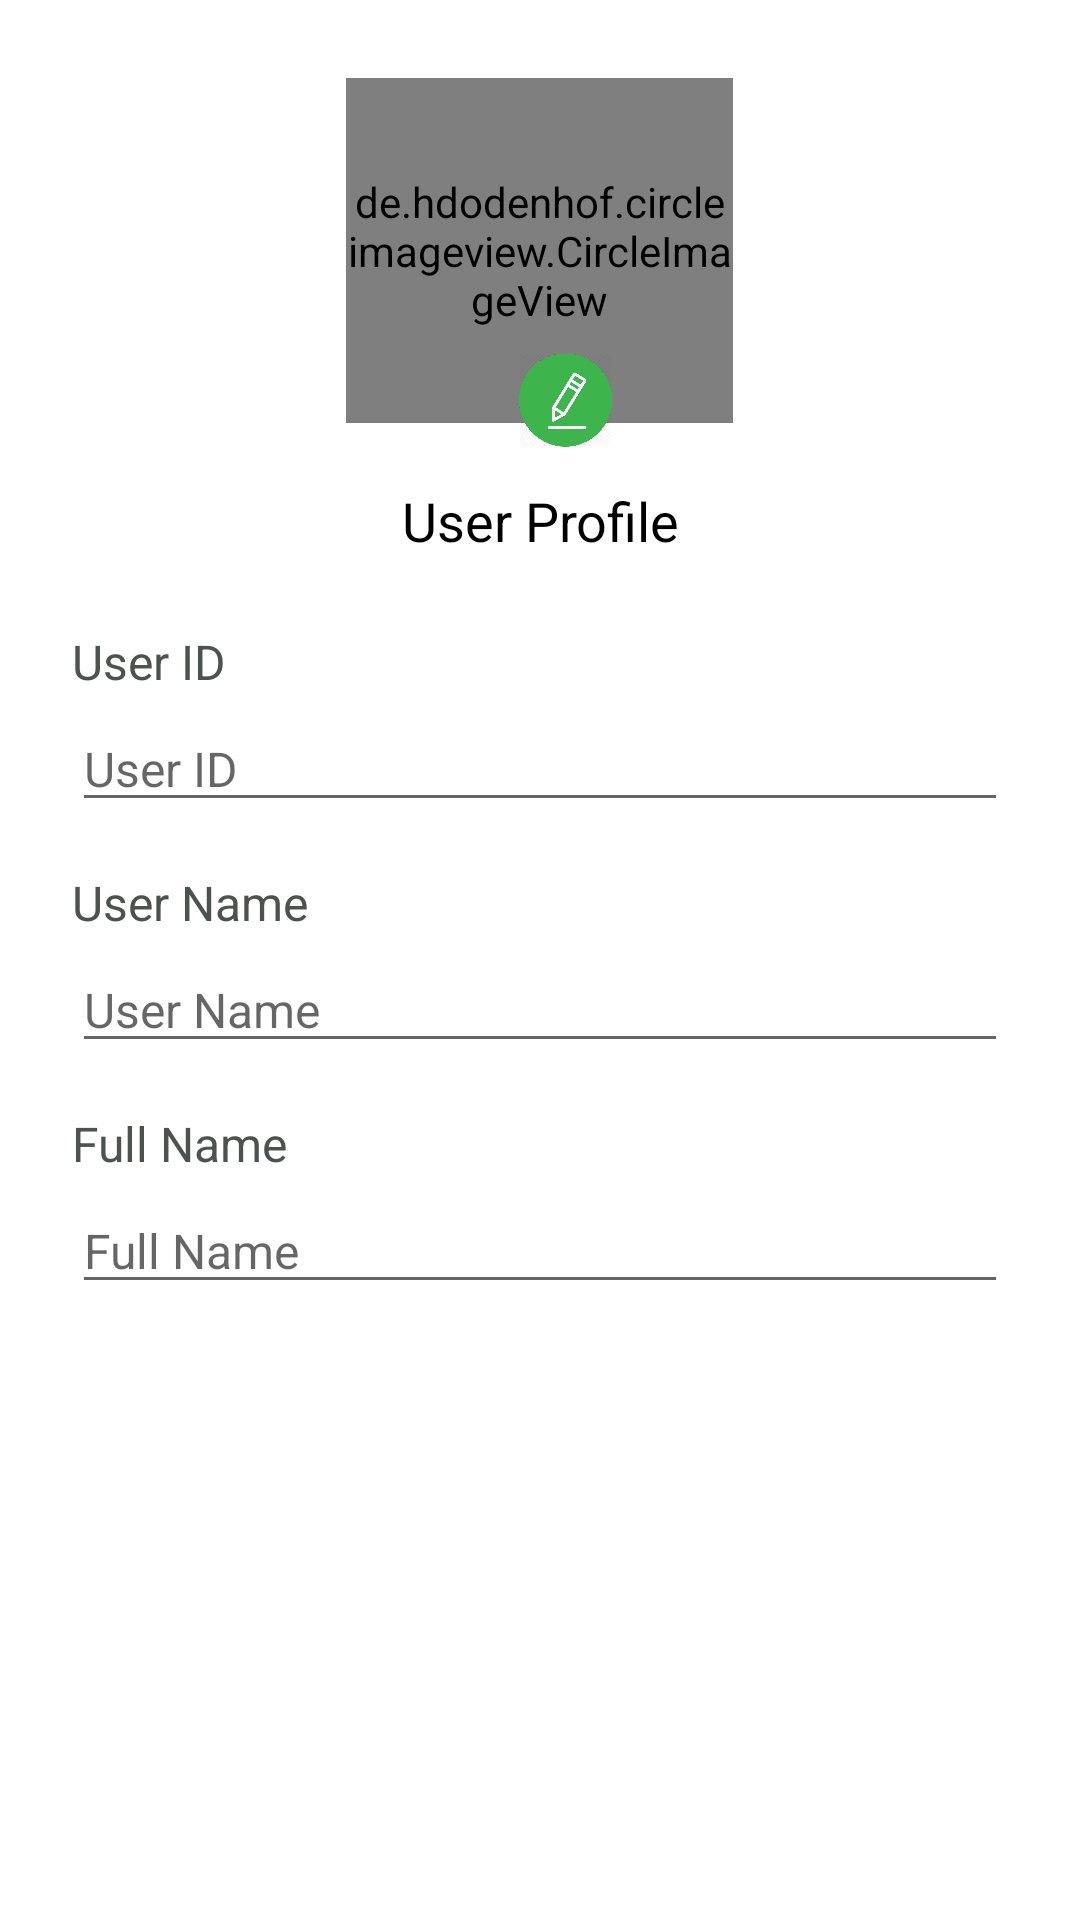

Screen size 1080*1920. Icon name, then its box in pixels as (x1, y1, x2, y2):
edit: (519, 354, 612, 448)
